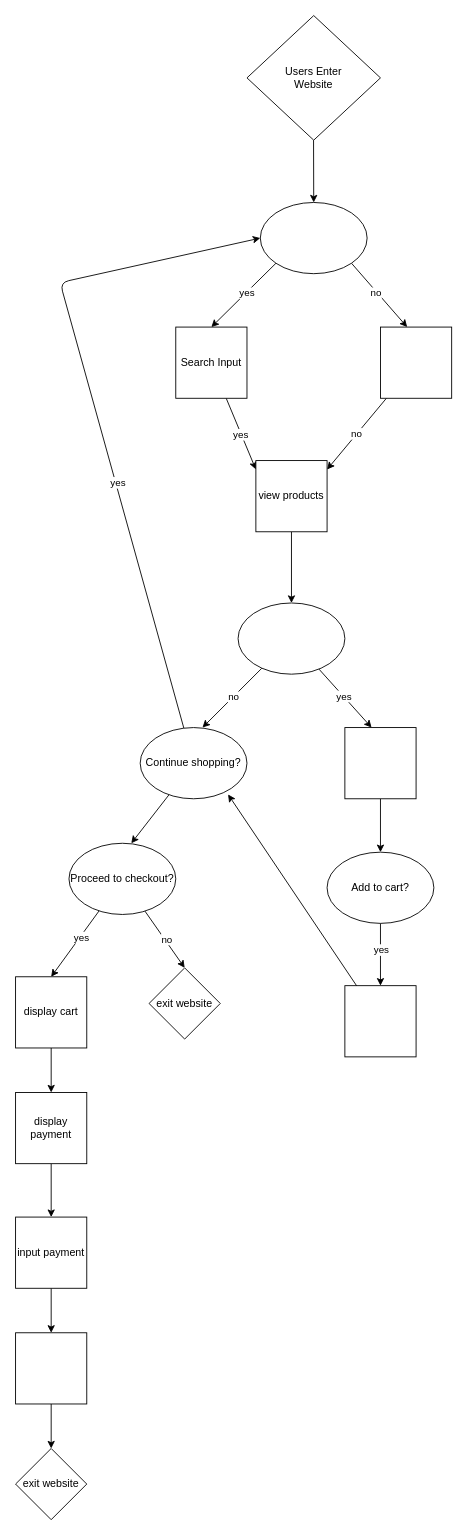
The diagram is 467 pixels wide and 1535 high, and some of its shapes have lost their labels. The shapes that lost their labels are listed below. From the top down, each one's box as (x1, y1, x2, y2) in pixels, then its label:
(259, 202, 367, 274): Search for item?
(380, 326, 452, 398): Browse Homepage
(237, 602, 345, 674): Select a specific product?
(344, 727, 416, 799): Display Product Details
(344, 985, 416, 1057): cart confirmation show
(15, 1332, 87, 1404): send confirmation
